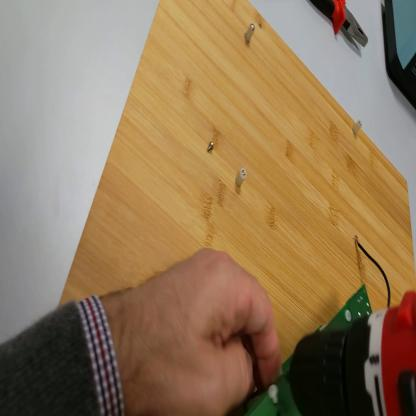electric screwdriver: (288, 290, 416, 416)
hand: (123, 248, 281, 416)
low voltage board: (253, 288, 375, 415)
pliers: (310, 1, 369, 54)
welder station: (385, 1, 416, 107)
working area: (57, 1, 416, 389)
